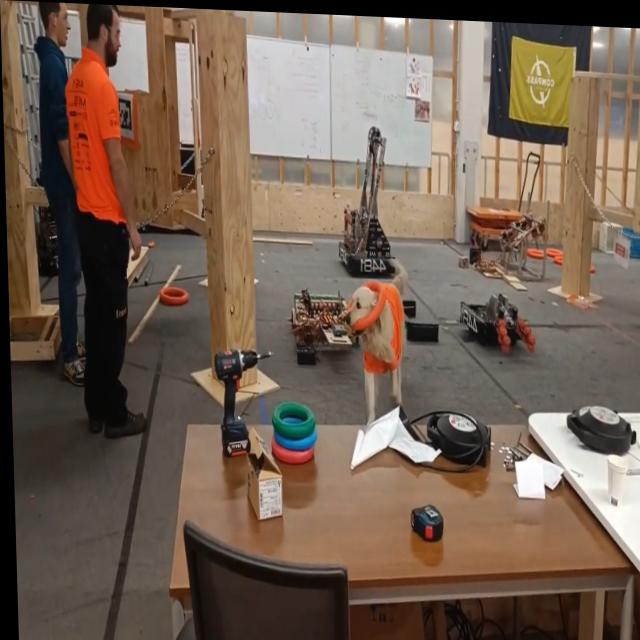note: (342, 275, 385, 333), (155, 282, 187, 308), (523, 243, 545, 255), (544, 240, 561, 253)
robot: (333, 119, 397, 272), (454, 284, 536, 350)
